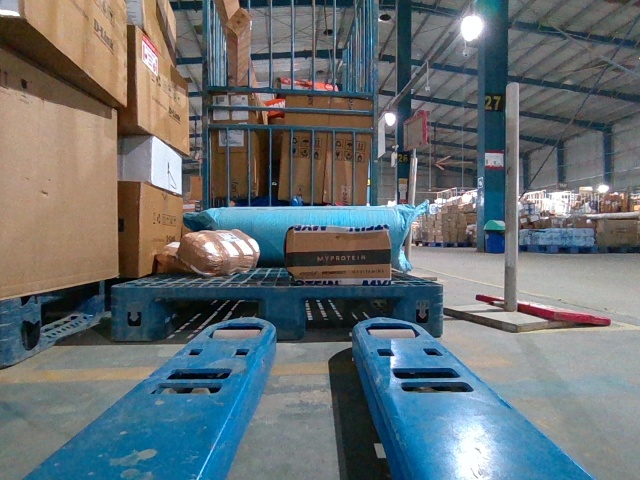block: (108, 283, 155, 340), (263, 287, 308, 343), (400, 283, 444, 337)
front: (111, 284, 442, 338)
hole pallet: (301, 293, 402, 341), (154, 297, 261, 341)
